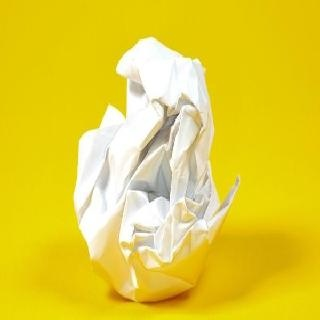8/可回收垃圾/纸: (72, 36, 241, 303)
